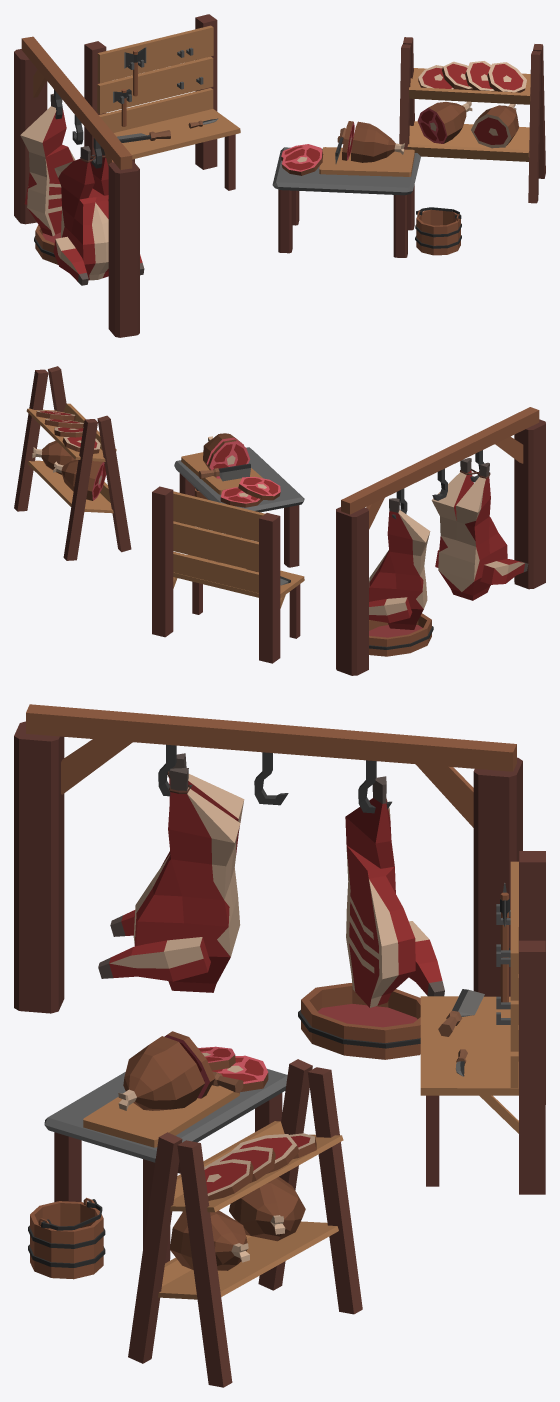
File: Slaughter_house_2.fbx
The picture shows the model from 3 angles, top to bottom: view 1: azimuth 30°, elevation 25°; view 2: azimuth 150°, elevation 25°; view 3: azimuth 270°, elevation 25°; orthographic projection. The views are drawn at different scales.
Visible parts, largest first — view 1: bench_with_tools.001, pillars_for_cow_carcass.003, shelving, cow_carcass-meat.001, meat_white.004, stone_table, cow_carcass_right.001, desk.002, bucket, ham_rose.002, meat_rose.005, barrel_with_leather.003 (+1 smaller); view 2: pillars_for_cow_carcass.003, bench_with_tools.001, shelving, cow_carcass-meat.001, cow_carcass_right.001, stone_table, meat_white.004, barrel_with_leather.003, meat_rose.005, meat_rose.004, desk.002, bench_with_tools.006 (+1 smaller); view 3: pillars_for_cow_carcass.003, shelving, bench_with_tools.001, cow_carcass-meat.001, cow_carcass_right.001, meat_white.004, stone_table, barrel_with_leather.003, bucket, ham_rose.002, desk.002, meat_rose.005 (+2 smaller).
Boxes of the visible parts, x1,y1,x2,y2 form: bench_with_tools.001: [84, 14, 240, 190]; pillars_for_cow_carcass.003: [14, 36, 139, 337]; shelving: [399, 37, 545, 203]; cow_carcass-meat.001: [53, 146, 144, 285]; meat_white.004: [417, 61, 526, 148]; stone_table: [272, 147, 420, 257]; cow_carcass_right.001: [20, 93, 75, 236]; desk.002: [319, 147, 414, 176]; bucket: [415, 209, 461, 255]; ham_rose.002: [351, 121, 404, 162]; meat_rose.005: [281, 144, 323, 175]; barrel_with_leather.003: [34, 225, 60, 264]; pillars_for_cow_carcass.003: [336, 407, 545, 675]; bench_with_tools.001: [152, 486, 304, 663]; shelving: [14, 366, 131, 560]; cow_carcass-meat.001: [431, 458, 528, 600]; cow_carcass_right.001: [369, 498, 430, 629]; stone_table: [174, 447, 304, 567]; meat_white.004: [32, 410, 106, 500]; barrel_with_leather.003: [369, 613, 433, 656]; meat_rose.005: [220, 476, 280, 507]; meat_rose.004: [207, 439, 250, 478]; desk.002: [181, 452, 263, 494]; bench_with_tools.006: [198, 463, 250, 481]; pillars_for_cow_carcass.003: [14, 704, 522, 1013]; shelving: [128, 1059, 362, 1387]; bench_with_tools.001: [420, 851, 545, 1194]; cow_carcass-meat.001: [98, 753, 244, 992]; cow_carcass_right.001: [345, 776, 444, 1007]; meat_white.004: [169, 1133, 316, 1270]; stone_table: [44, 1069, 287, 1263]; barrel_with_leather.003: [298, 983, 420, 1059]; bucket: [28, 1197, 105, 1279]; ham_rose.002: [118, 1036, 204, 1110]; desk.002: [83, 1085, 239, 1147]; meat_rose.005: [198, 1046, 268, 1091].
Bounding box in the file's own units: 352 × 120 × 197.
